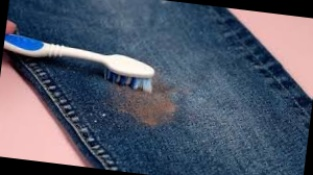earth: (124, 94, 171, 124)
